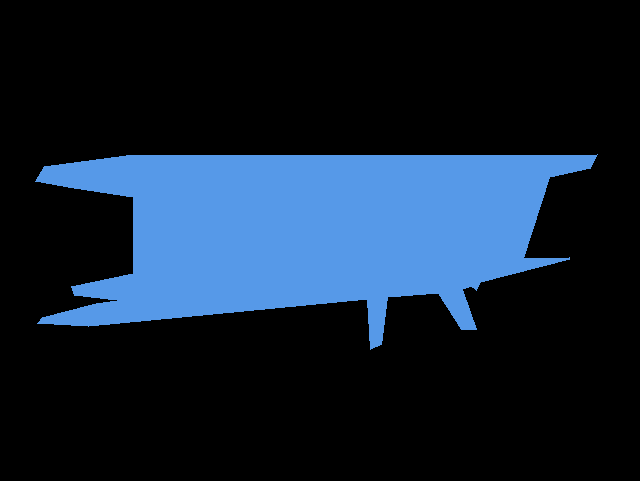Airplane: (35, 154, 598, 349)
